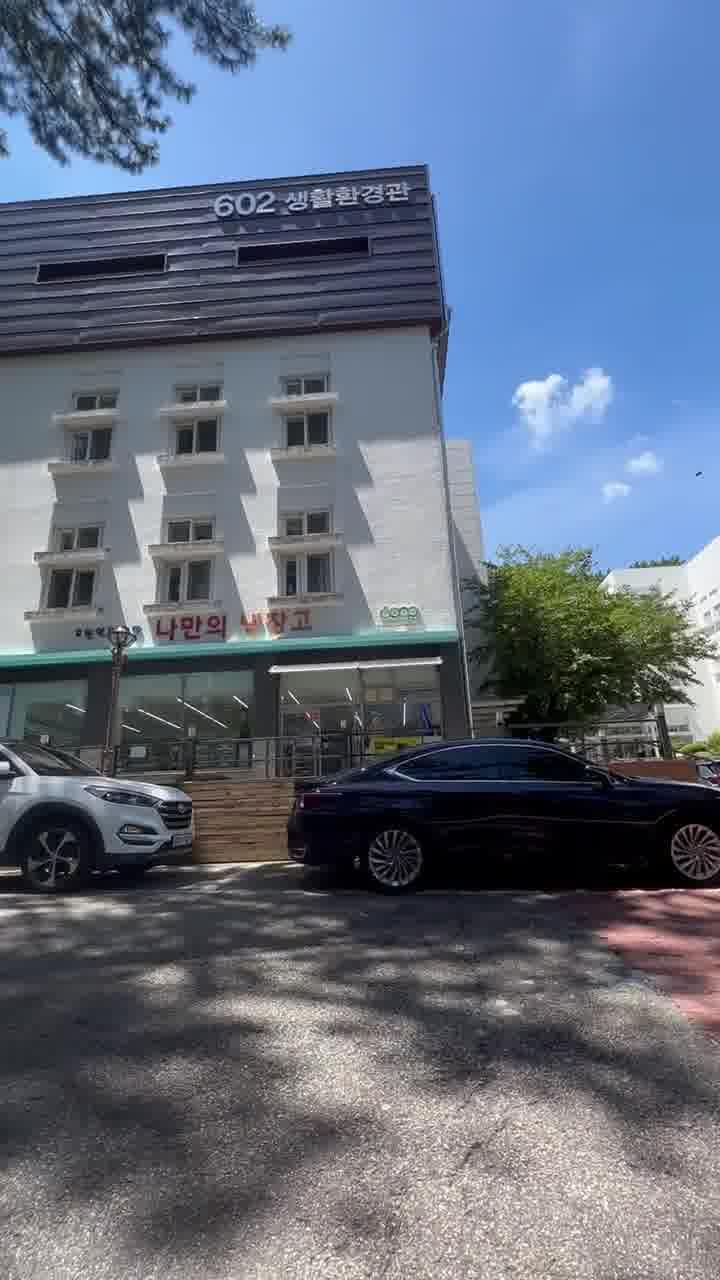building: (0, 138, 488, 738)
